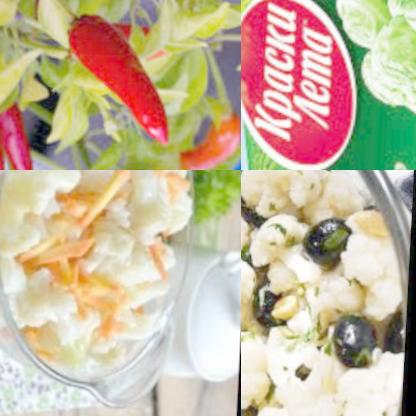brus capusta: (336, 0, 416, 111), (297, 139, 416, 170)
carrot: (56, 192, 113, 262), (71, 271, 126, 309)
cayliflower: (265, 224, 410, 327), (83, 222, 190, 340), (241, 352, 385, 416), (115, 170, 209, 255), (241, 170, 368, 229), (0, 170, 72, 269), (241, 205, 270, 404), (15, 271, 83, 347), (42, 170, 136, 196)
hot pepper: (59, 6, 179, 147), (178, 107, 241, 170), (0, 95, 49, 170), (0, 107, 13, 170)
